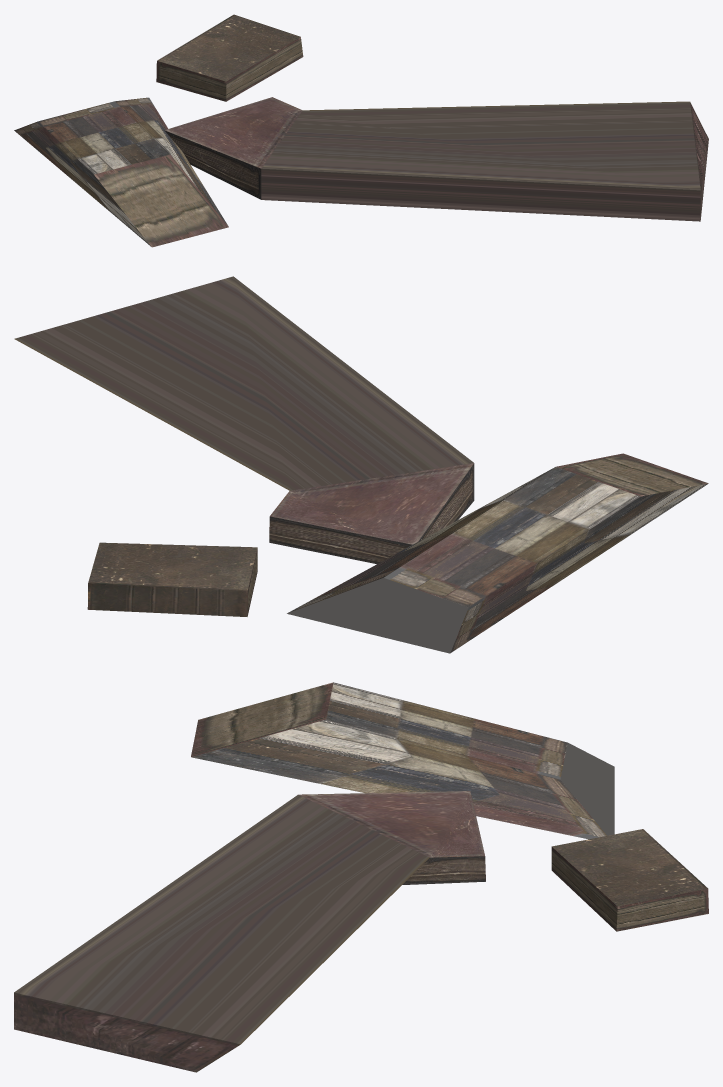
File: p_glo_books_pile_lod2.glb
The picture shows the model from 3 angles, top to bottom: view 1: azimuth 30°, elevation 25°; view 2: azimuth 150°, elevation 25°; view 3: azimuth 270°, elevation 25°; orthographic projection. The views are drawn at different scales.
Parts seen in each view (by area): view 1: surf0; view 2: surf0; view 3: surf0.
Boxes of the visible parts, bbox=[...] form: surf0: bbox=[14, 14, 708, 247]; surf0: bbox=[14, 276, 708, 653]; surf0: bbox=[14, 682, 708, 1072].
Bounding box in the file's own units: 57.85 × 6.72 × 52.83.
